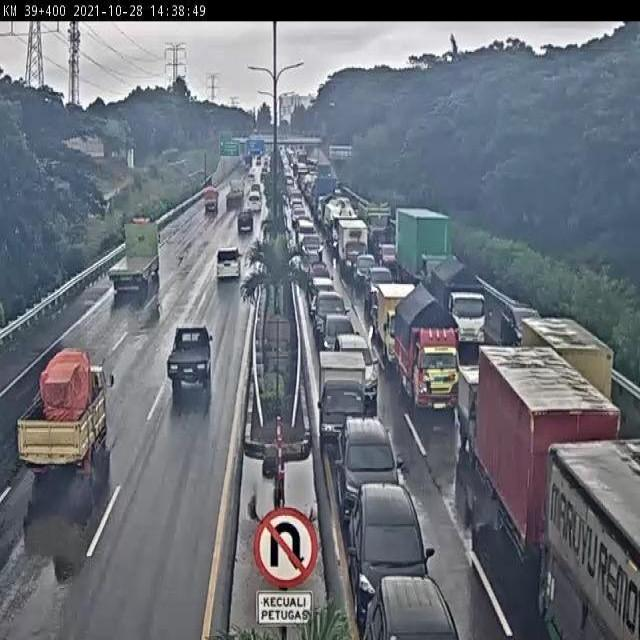big truck: (479, 345, 626, 595), (391, 205, 451, 298), (103, 216, 162, 297), (223, 181, 244, 215)
car: (349, 486, 436, 618), (335, 418, 399, 530), (363, 577, 460, 640), (335, 336, 380, 403), (319, 315, 360, 369), (502, 304, 545, 353), (312, 290, 350, 342), (367, 265, 395, 308), (215, 245, 244, 280), (309, 276, 334, 316), (355, 255, 376, 288), (234, 211, 253, 233)
small bus: (243, 196, 261, 217)
small truck: (16, 348, 115, 479), (520, 317, 612, 456), (393, 287, 462, 416), (458, 365, 521, 468), (317, 348, 369, 449), (428, 256, 486, 343), (377, 283, 420, 369), (166, 325, 215, 391), (339, 220, 369, 276), (200, 189, 219, 219)
